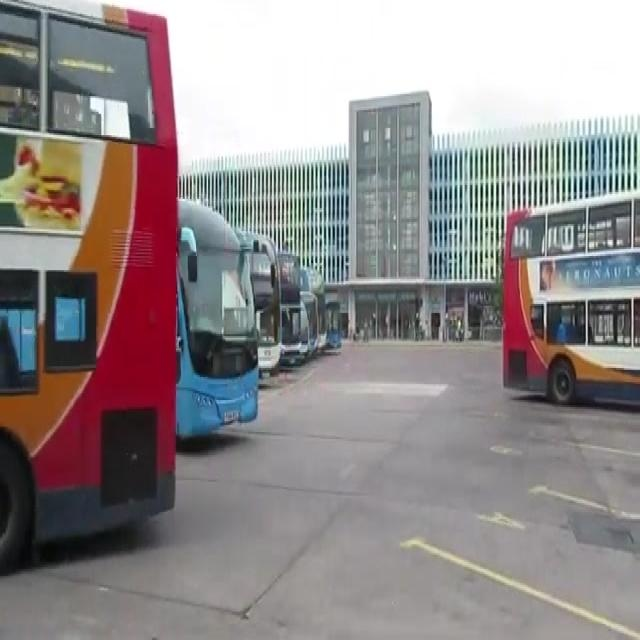Bus: (0, 9, 180, 578), (502, 190, 640, 402), (170, 201, 263, 441), (246, 235, 284, 366), (282, 284, 303, 366), (302, 293, 320, 351), (330, 298, 344, 353), (319, 294, 326, 348)
